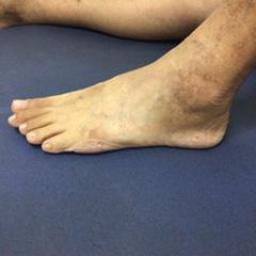Lateral View -Left Foot-: (2, 42, 248, 162)
